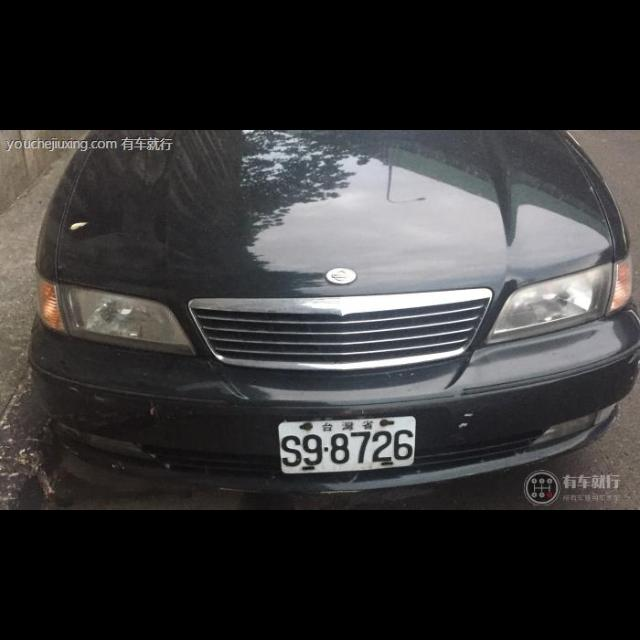plate: (279, 416, 416, 475)
